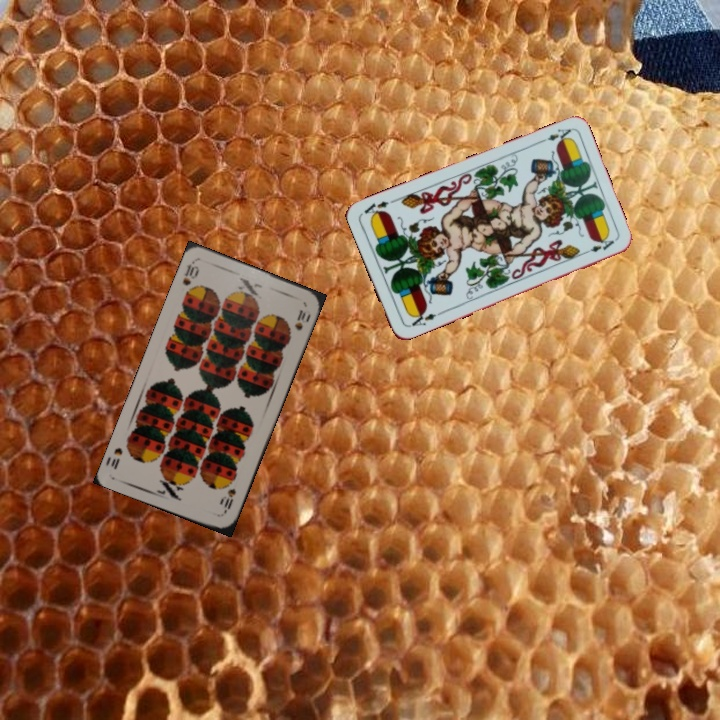EA: (535, 125, 574, 146), (404, 307, 439, 330)
S10: (178, 258, 202, 288), (217, 484, 239, 516)
